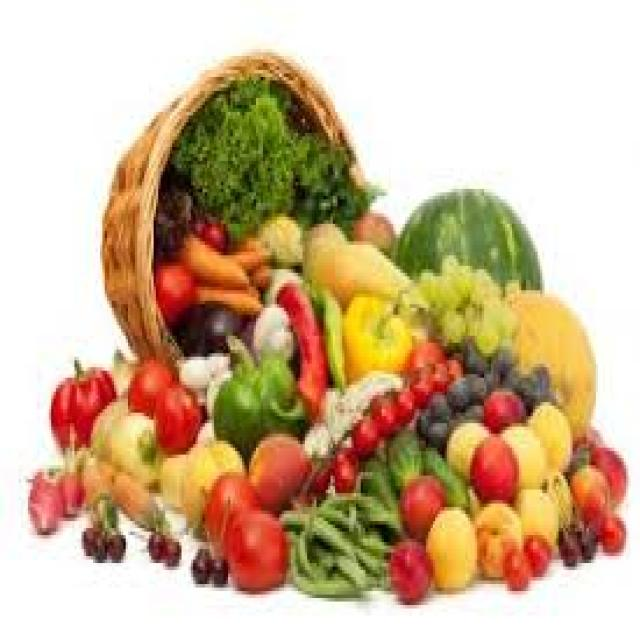food_waste: (28, 52, 624, 602)
